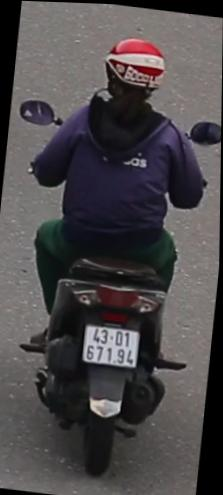LP: (80, 316, 144, 369)
helmet: (96, 27, 170, 115)
